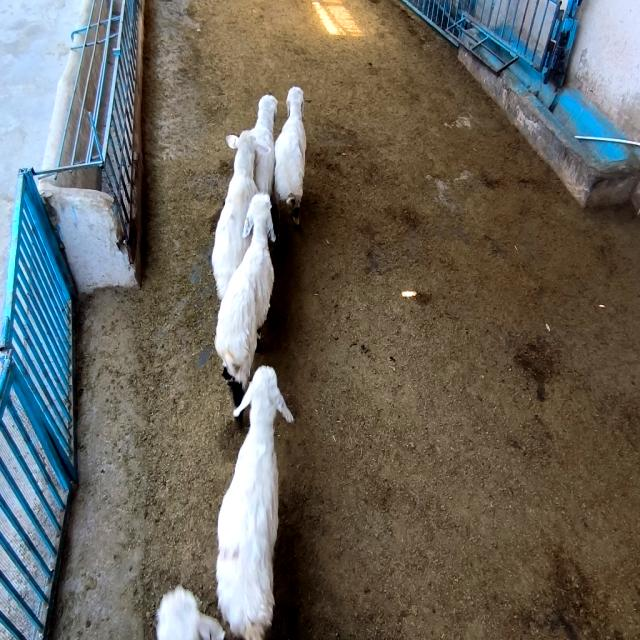sheep: (216, 367, 289, 638), (215, 193, 274, 388), (211, 130, 270, 299), (274, 87, 306, 227), (252, 95, 278, 196)
